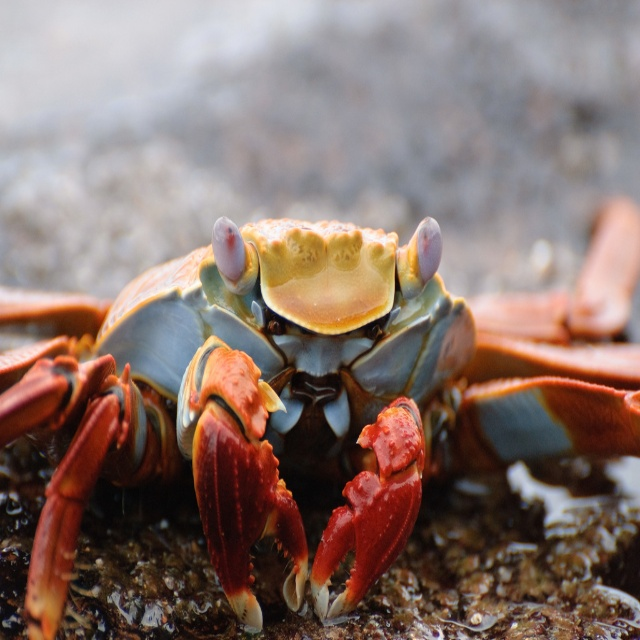Crab: (0, 191, 640, 639)
